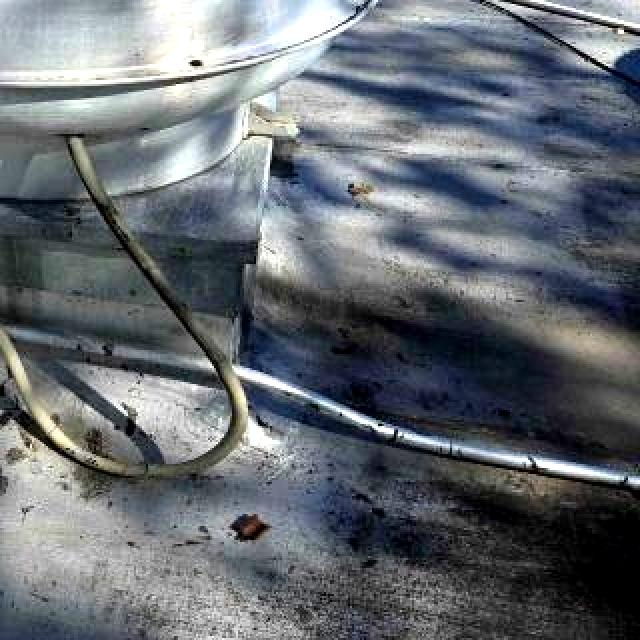GRAVITY-VENT: (0, 0, 394, 288)
